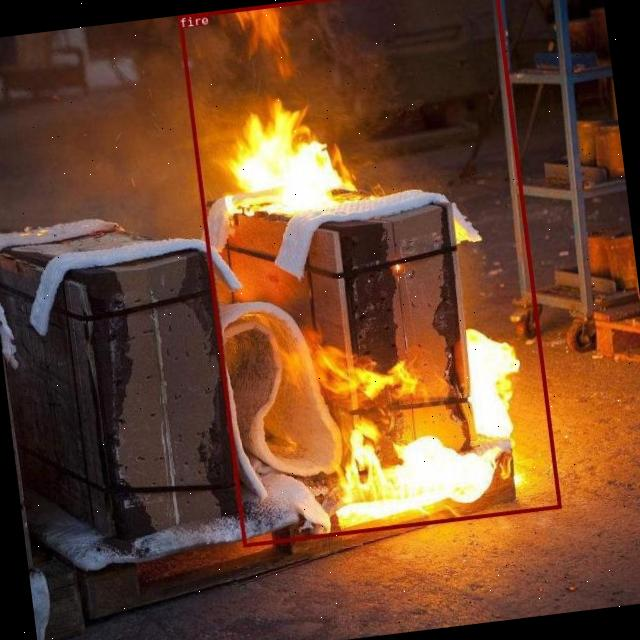fire: (176, 0, 559, 546)
